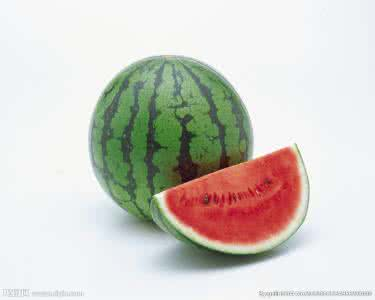watermelon: (91, 53, 264, 226)
